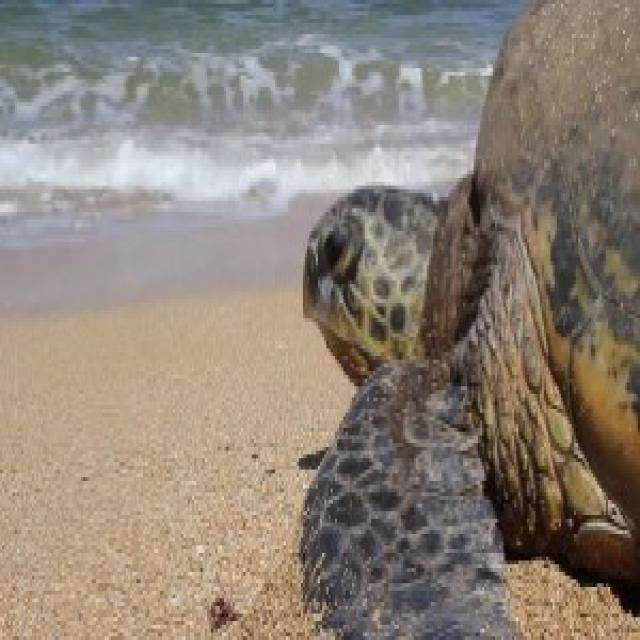Sea turtle: (275, 0, 640, 640)
